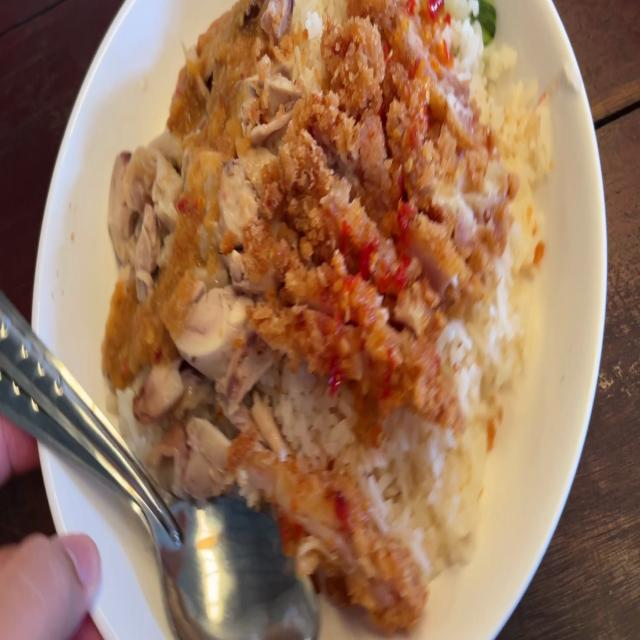boiled_chicken: (116, 1, 307, 365)
chicken_rice: (101, 0, 547, 629)
fried_chicken: (270, 32, 467, 381), (244, 435, 416, 619)
